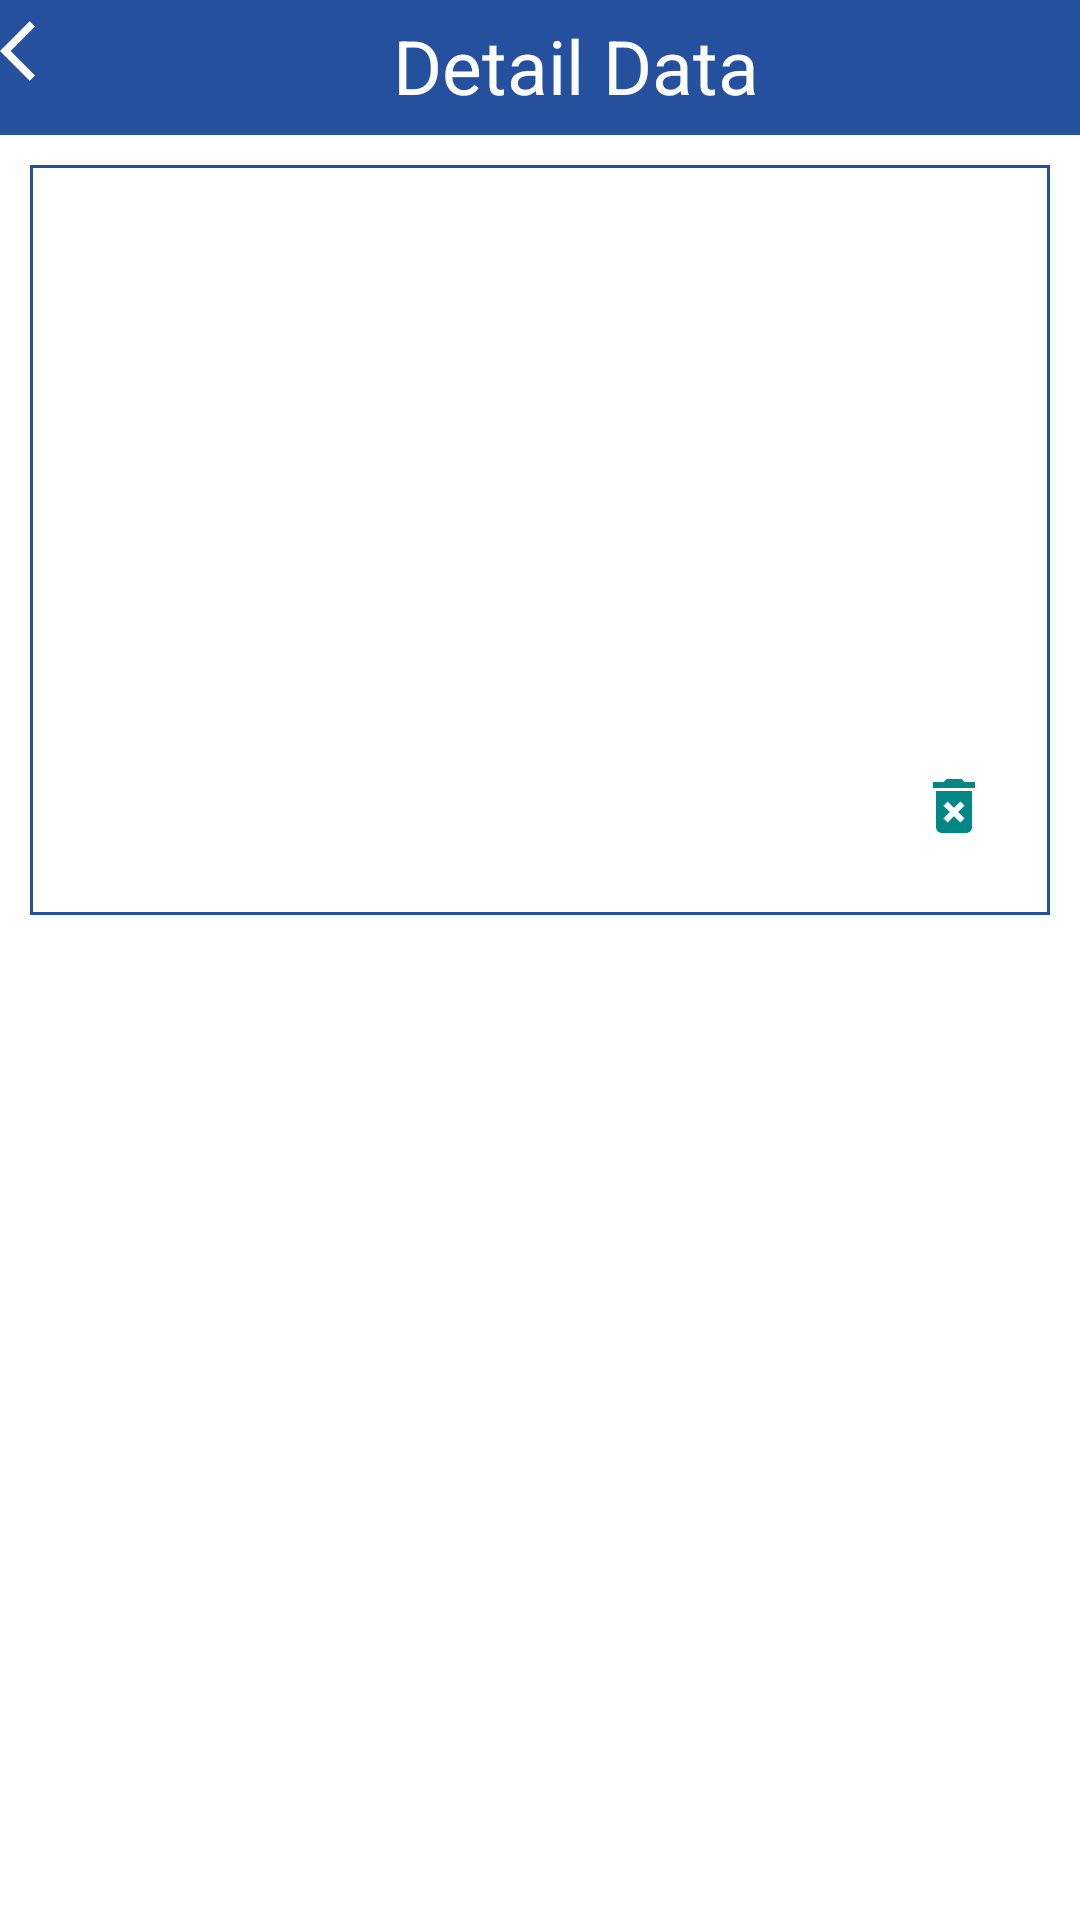

Named icons in this screenshot (1080*1920) and their centers, point (x, y):
back: point (17, 51)
hapus: point (954, 806)
